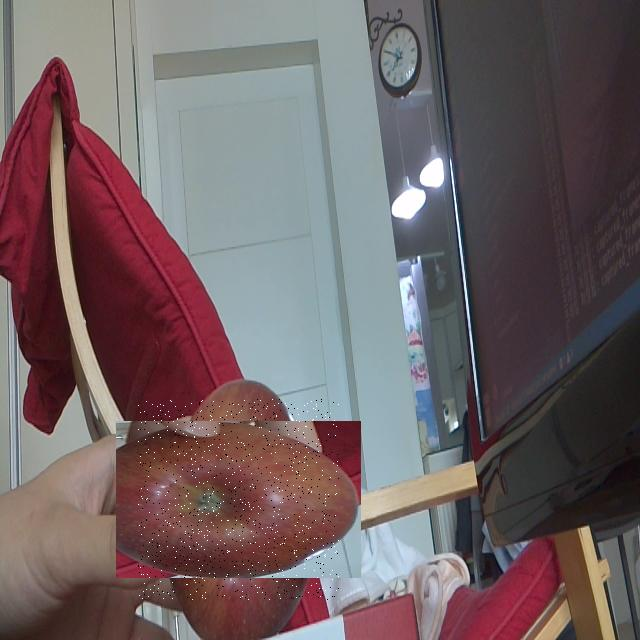apple: (138, 399, 339, 600)
